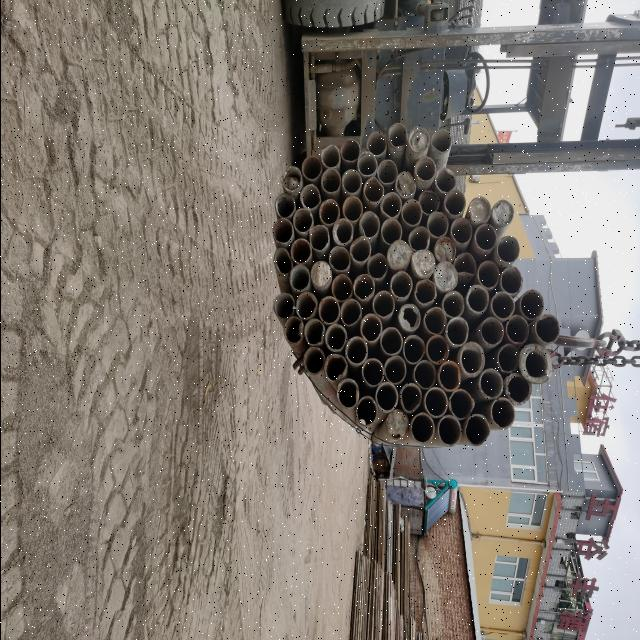pipe: (517, 342, 552, 384), (455, 340, 485, 379), (502, 370, 532, 408), (488, 394, 516, 430), (446, 386, 474, 421), (464, 412, 491, 448), (476, 367, 504, 401), (385, 238, 413, 272), (436, 413, 462, 448), (518, 288, 544, 322), (478, 315, 504, 349), (409, 411, 435, 445), (436, 359, 461, 394), (533, 314, 560, 346), (432, 260, 458, 293), (374, 379, 398, 414), (504, 314, 530, 346), (490, 290, 516, 322), (464, 284, 490, 316), (422, 386, 448, 418), (424, 334, 450, 366), (398, 381, 422, 415), (354, 394, 378, 428), (336, 377, 360, 411), (344, 334, 368, 368), (444, 316, 469, 348), (412, 358, 436, 391), (348, 233, 372, 266), (410, 248, 436, 278), (322, 352, 348, 382), (396, 302, 421, 333), (496, 342, 520, 374), (476, 259, 500, 291), (386, 408, 410, 440), (388, 270, 412, 302), (360, 356, 384, 388), (358, 312, 382, 344), (422, 306, 447, 336), (378, 326, 403, 356), (402, 334, 426, 365), (371, 289, 395, 320), (331, 216, 354, 248), (490, 198, 514, 228), (496, 234, 520, 264), (499, 266, 523, 296), (467, 196, 491, 226), (473, 223, 497, 253), (382, 354, 406, 384), (351, 272, 375, 302), (323, 323, 347, 353), (317, 294, 340, 325), (358, 209, 380, 241), (432, 236, 457, 264), (406, 125, 430, 154), (379, 217, 403, 246), (378, 190, 402, 219), (442, 188, 465, 218), (365, 252, 388, 282), (330, 272, 353, 302), (309, 260, 332, 290), (279, 164, 302, 194), (294, 290, 316, 321), (433, 167, 458, 194), (412, 278, 437, 305), (440, 290, 464, 318), (412, 155, 436, 183), (425, 210, 449, 238), (327, 244, 351, 272), (394, 170, 416, 200), (302, 346, 324, 376), (303, 317, 325, 347), (282, 315, 304, 345), (452, 251, 476, 278), (400, 198, 422, 227), (362, 176, 384, 205), (339, 298, 361, 327), (341, 195, 363, 224), (318, 198, 340, 227), (288, 263, 310, 292), (429, 128, 453, 154), (449, 217, 472, 244), (416, 189, 439, 216), (406, 225, 429, 252), (376, 157, 398, 185), (356, 150, 378, 178), (319, 167, 341, 195), (307, 224, 329, 252), (298, 183, 320, 211), (292, 207, 314, 235), (272, 292, 294, 320), (274, 191, 296, 219), (271, 217, 293, 245), (387, 120, 407, 150), (272, 246, 292, 276), (365, 130, 387, 157), (340, 168, 362, 195), (300, 154, 322, 181), (290, 238, 312, 264), (339, 137, 360, 163), (320, 144, 340, 170)
